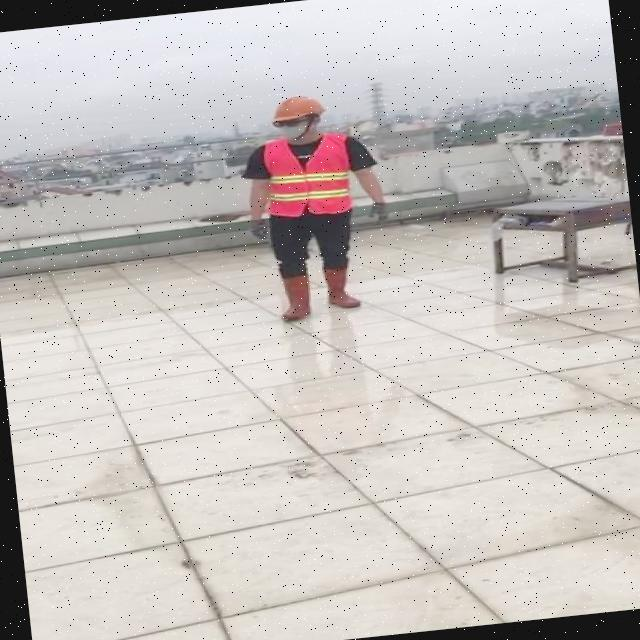boots: (320, 264, 363, 310), (276, 274, 316, 320)
helmet: (270, 91, 326, 122)
vest: (260, 132, 354, 218)
